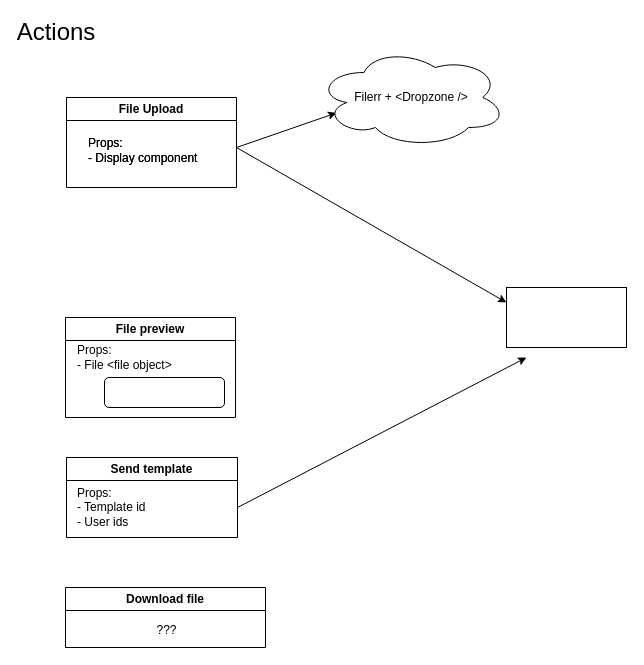
This 644x665 diagram has some shape labels left out. Here are the shapes that lost their labels. From the top down, the centre of each, then its label:
At (x=566, y=317): "Legal docs Pegasus".
At (x=164, y=392): "Lightbox".
